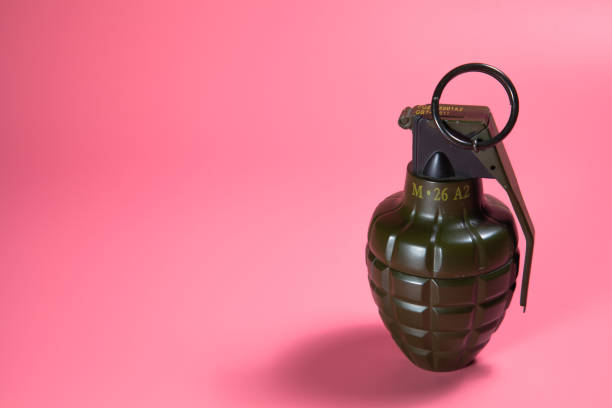e1: (362, 65, 536, 375)
